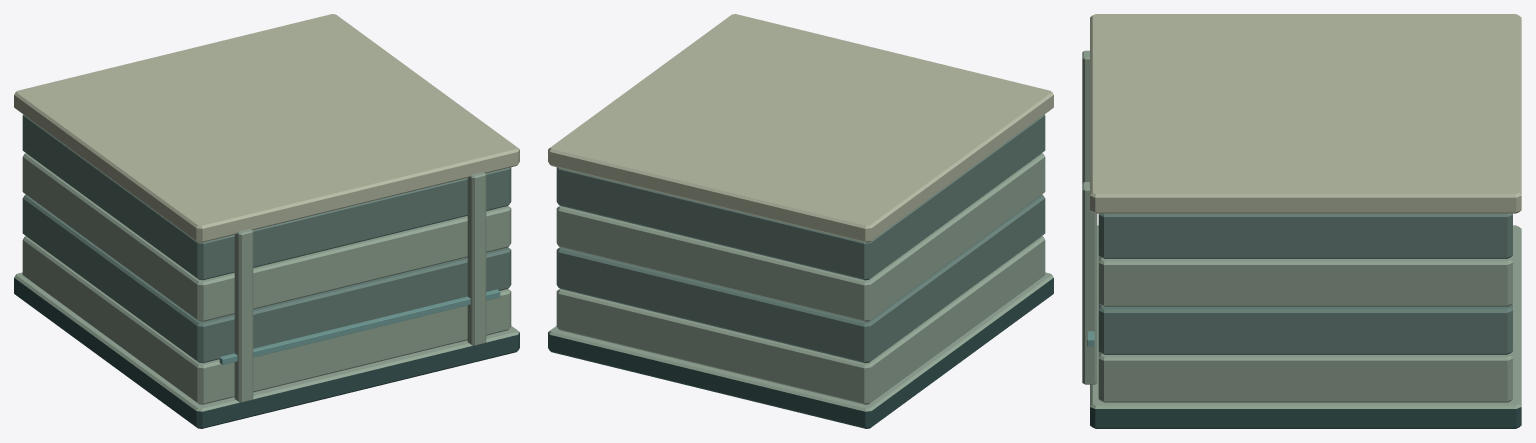
Rendered from platform.glb.
3 views of the same model, side by side, from view 1: azimuth 30°, elevation 25°; view 2: azimuth 150°, elevation 25°; view 3: azimuth 270°, elevation 25° (orthographic). The views are drawn at different scales.
Visible parts, largest first — view 1: platform__body; view 2: platform__body; view 3: platform__body.
Part boxes in pixels (box(x1,y1,x2,y2)): platform__body: box(14, 14, 519, 428); platform__body: box(548, 14, 1053, 428); platform__body: box(1082, 14, 1521, 428).
Bounding box in the file's own units: 2 × 1.2 × 2.03.
